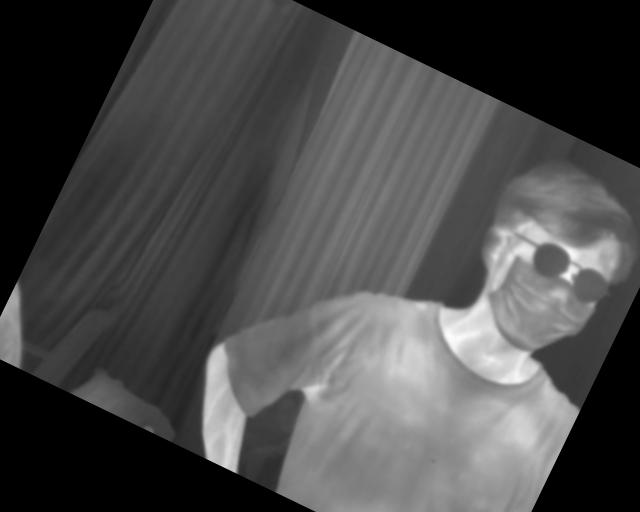face: (442, 142, 640, 376)
